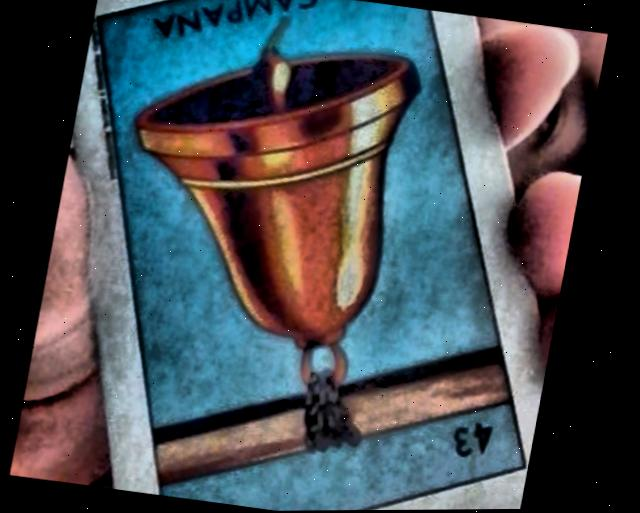La Campana: (99, 0, 526, 511)
